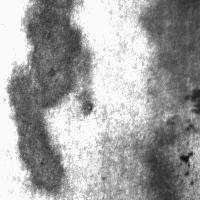patches: (86, 0, 200, 137), (6, 1, 85, 191), (80, 122, 176, 200), (144, 1, 200, 124), (143, 118, 183, 198)
